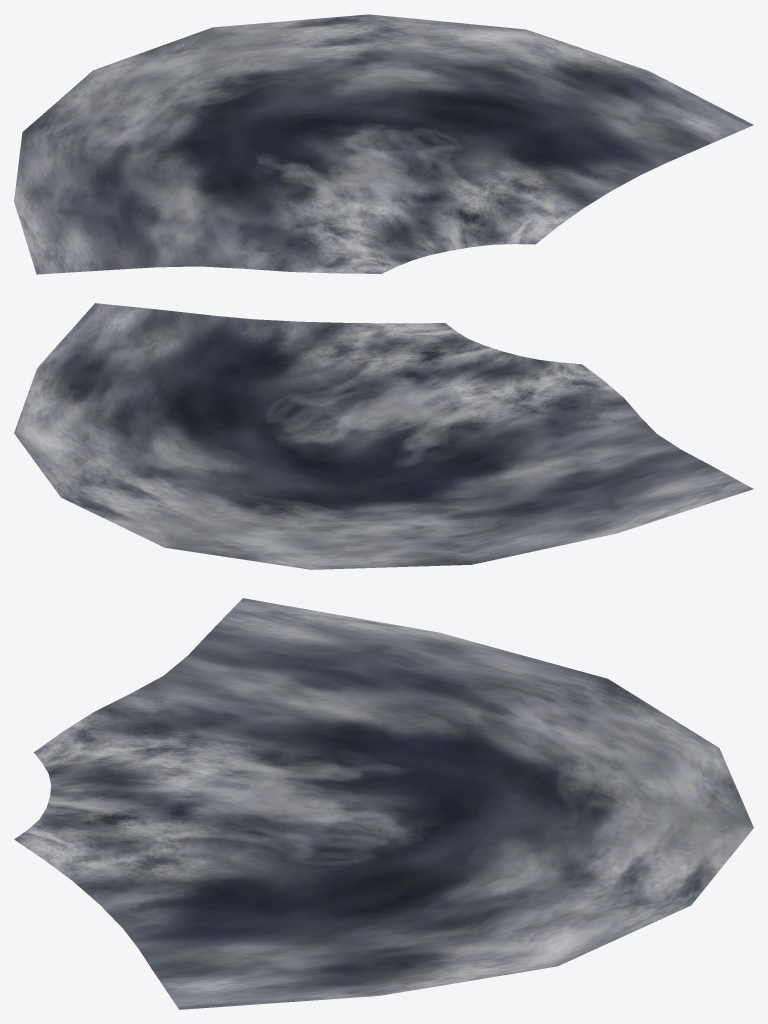
Rendered from CB_NEWPLAYSURFACE_CB_WATERFALLS18.fbx.
The picture shows the model from 3 angles, top to bottom: view 1: azimuth 30°, elevation 25°; view 2: azimuth 150°, elevation 25°; view 3: azimuth 270°, elevation 25°; orthographic projection. The views are drawn at different scales.
Parts seen in each view (by area): view 1: CB_NEWPLAYSURFACE_CB_WATERFALLS18; view 2: CB_NEWPLAYSURFACE_CB_WATERFALLS18; view 3: CB_NEWPLAYSURFACE_CB_WATERFALLS18.
Boxes of the visible parts, <box> form: CB_NEWPLAYSURFACE_CB_WATERFALLS18: <box>14,14,753,274</box>; CB_NEWPLAYSURFACE_CB_WATERFALLS18: <box>14,303,753,569</box>; CB_NEWPLAYSURFACE_CB_WATERFALLS18: <box>14,598,753,1009</box>.
Size of the model in its own units: 180064 by 1594 by 136759.
1 material, 1 textured.
